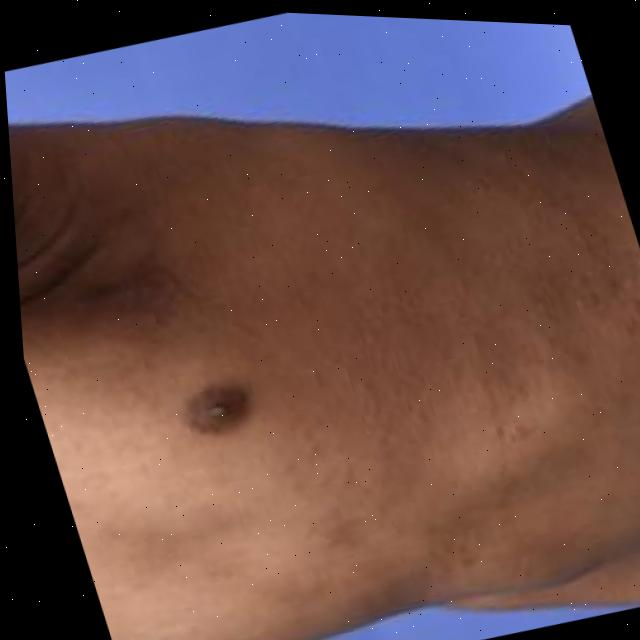Eczema: (98, 33, 640, 426)
